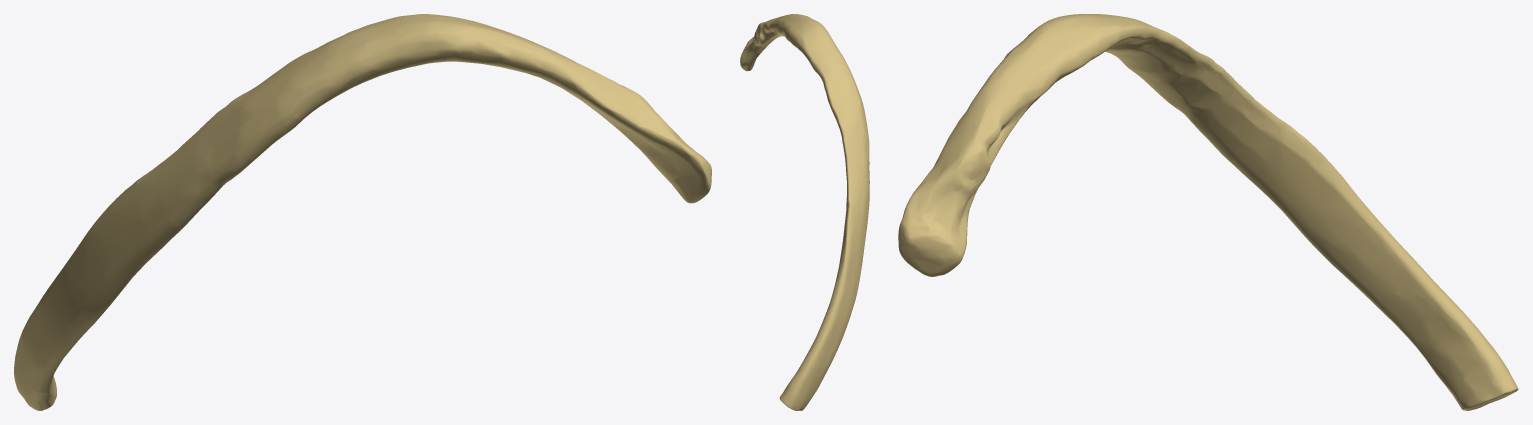
3 renders of one model, left to right at view 1: azimuth 30°, elevation 25°; view 2: azimuth 150°, elevation 25°; view 3: azimuth 270°, elevation 25°, orthographic. The views are drawn at different scales.
Parts seen in each view (by area): view 1: 右侧第九肋; view 2: 右侧第九肋; view 3: 右侧第九肋.
Boxes of the visible parts, x1,y1,x2,y2 form: 右侧第九肋: (14, 14, 711, 410); 右侧第九肋: (740, 14, 869, 410); 右侧第九肋: (898, 14, 1518, 410).
Size of the model in its own units: 0.1698 by 0.1951 by 0.2286.
